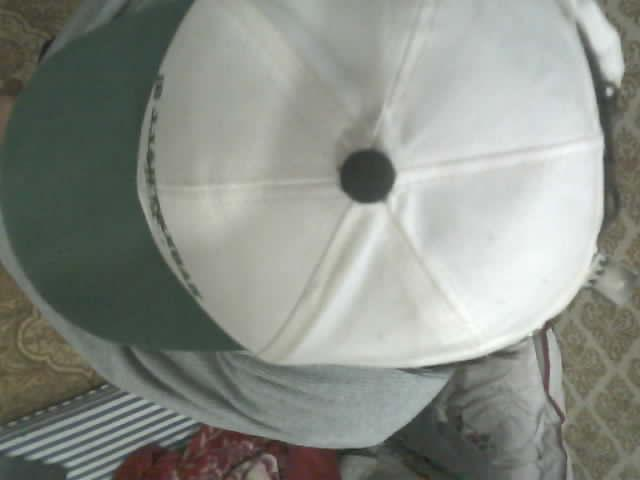cap: (0, 0, 625, 371)
